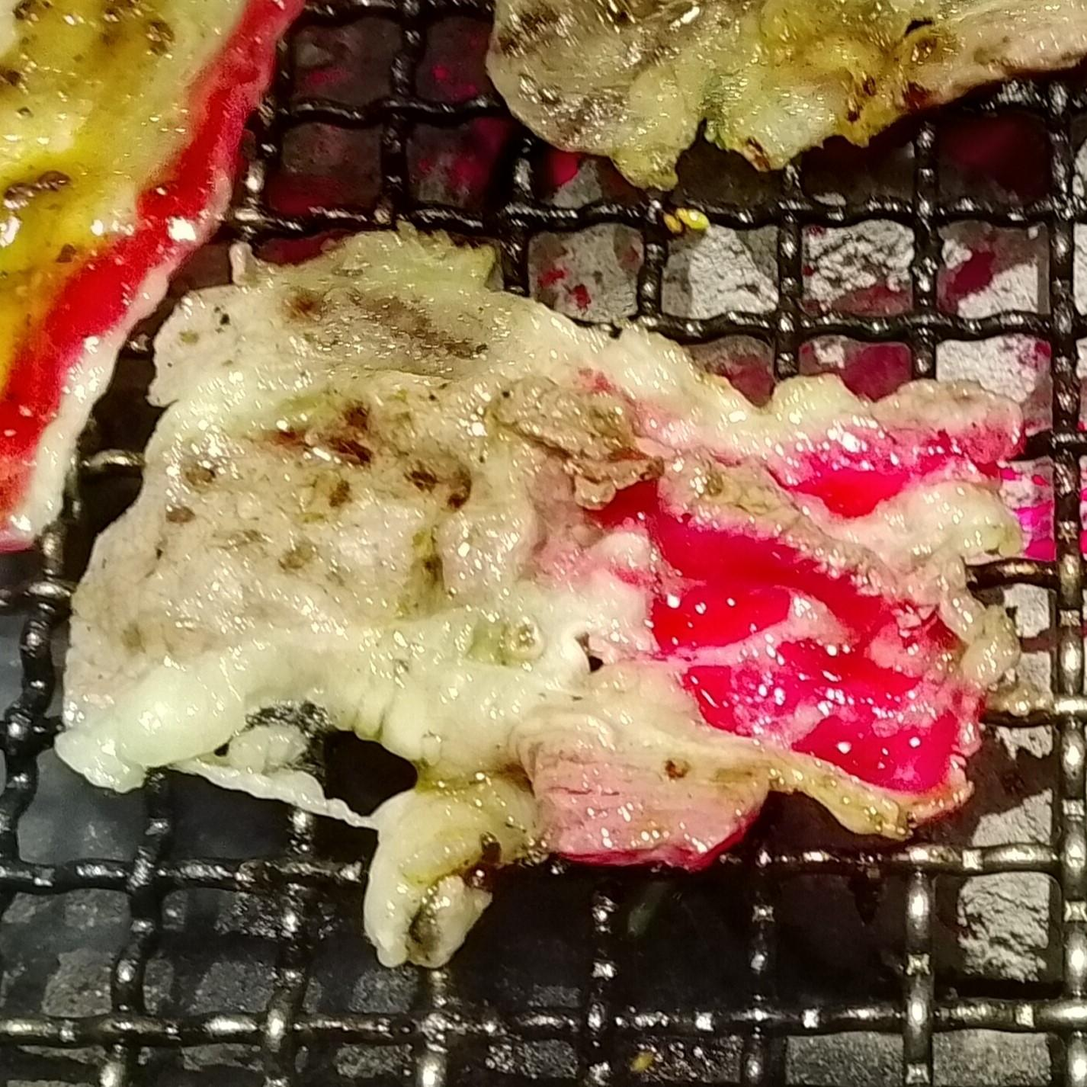Overcooked: (68, 238, 644, 794), (486, 0, 1086, 194)
Undercooked: (598, 356, 1021, 831), (0, 0, 277, 533)
